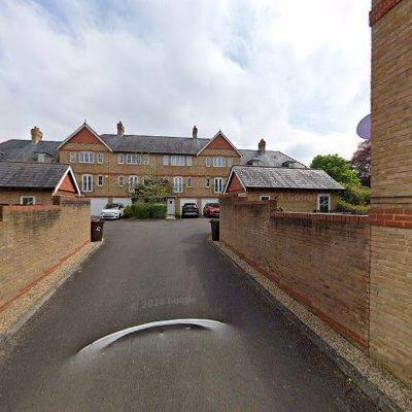stationary-car-offstreet: (100, 202, 126, 221), (181, 202, 199, 219), (203, 202, 221, 218)
